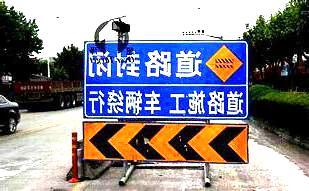sign: (83, 40, 249, 162)
